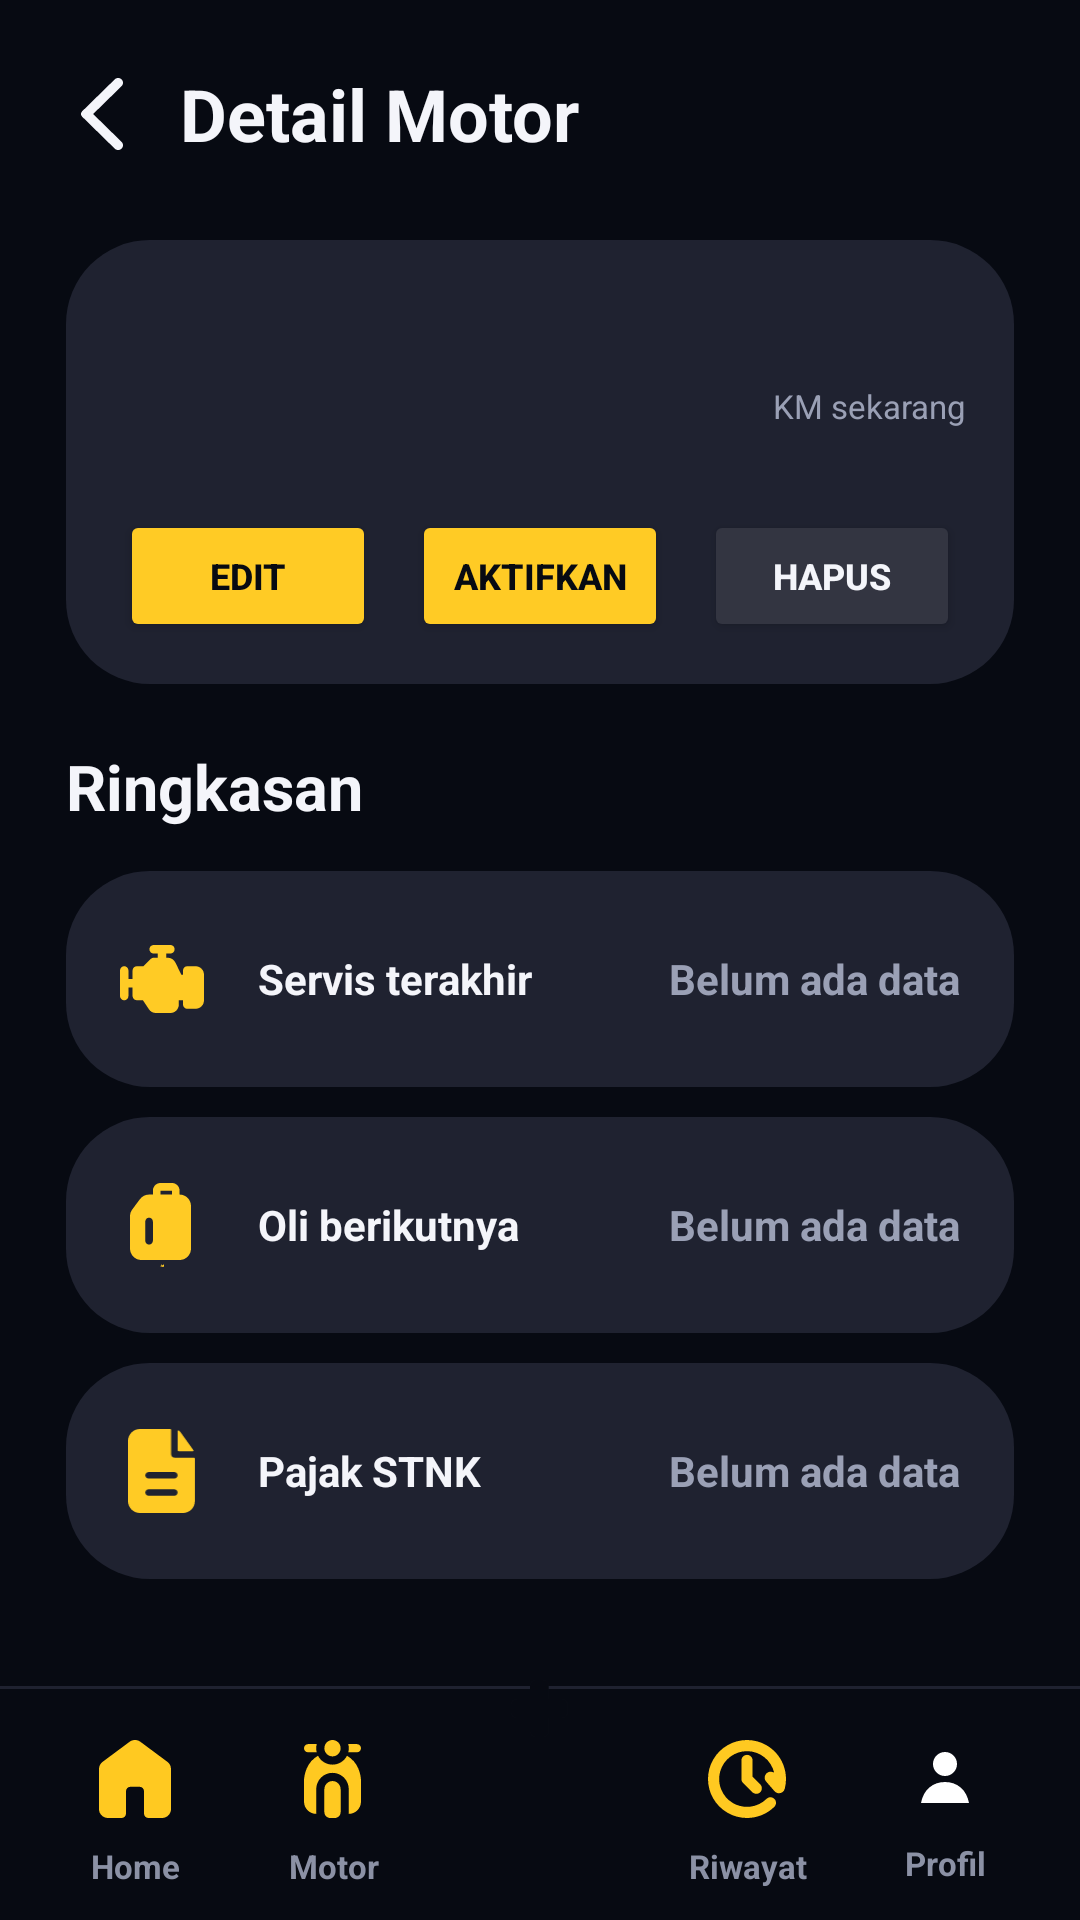

Icons on this 1080 × 1920 Android screen, each with the point to tap as (x=x, y=y):
Kembali: (x=102, y=114)
oil: (x=160, y=1225)
service: (x=162, y=979)
